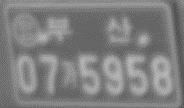0: (15, 53, 38, 96)
5: (78, 52, 102, 95), (125, 54, 147, 97)
7: (38, 52, 60, 96)
8: (150, 55, 173, 96)
9: (101, 54, 125, 95)
가: (60, 59, 80, 89)
부산_D: (45, 13, 133, 46)
영: (12, 12, 42, 49)
